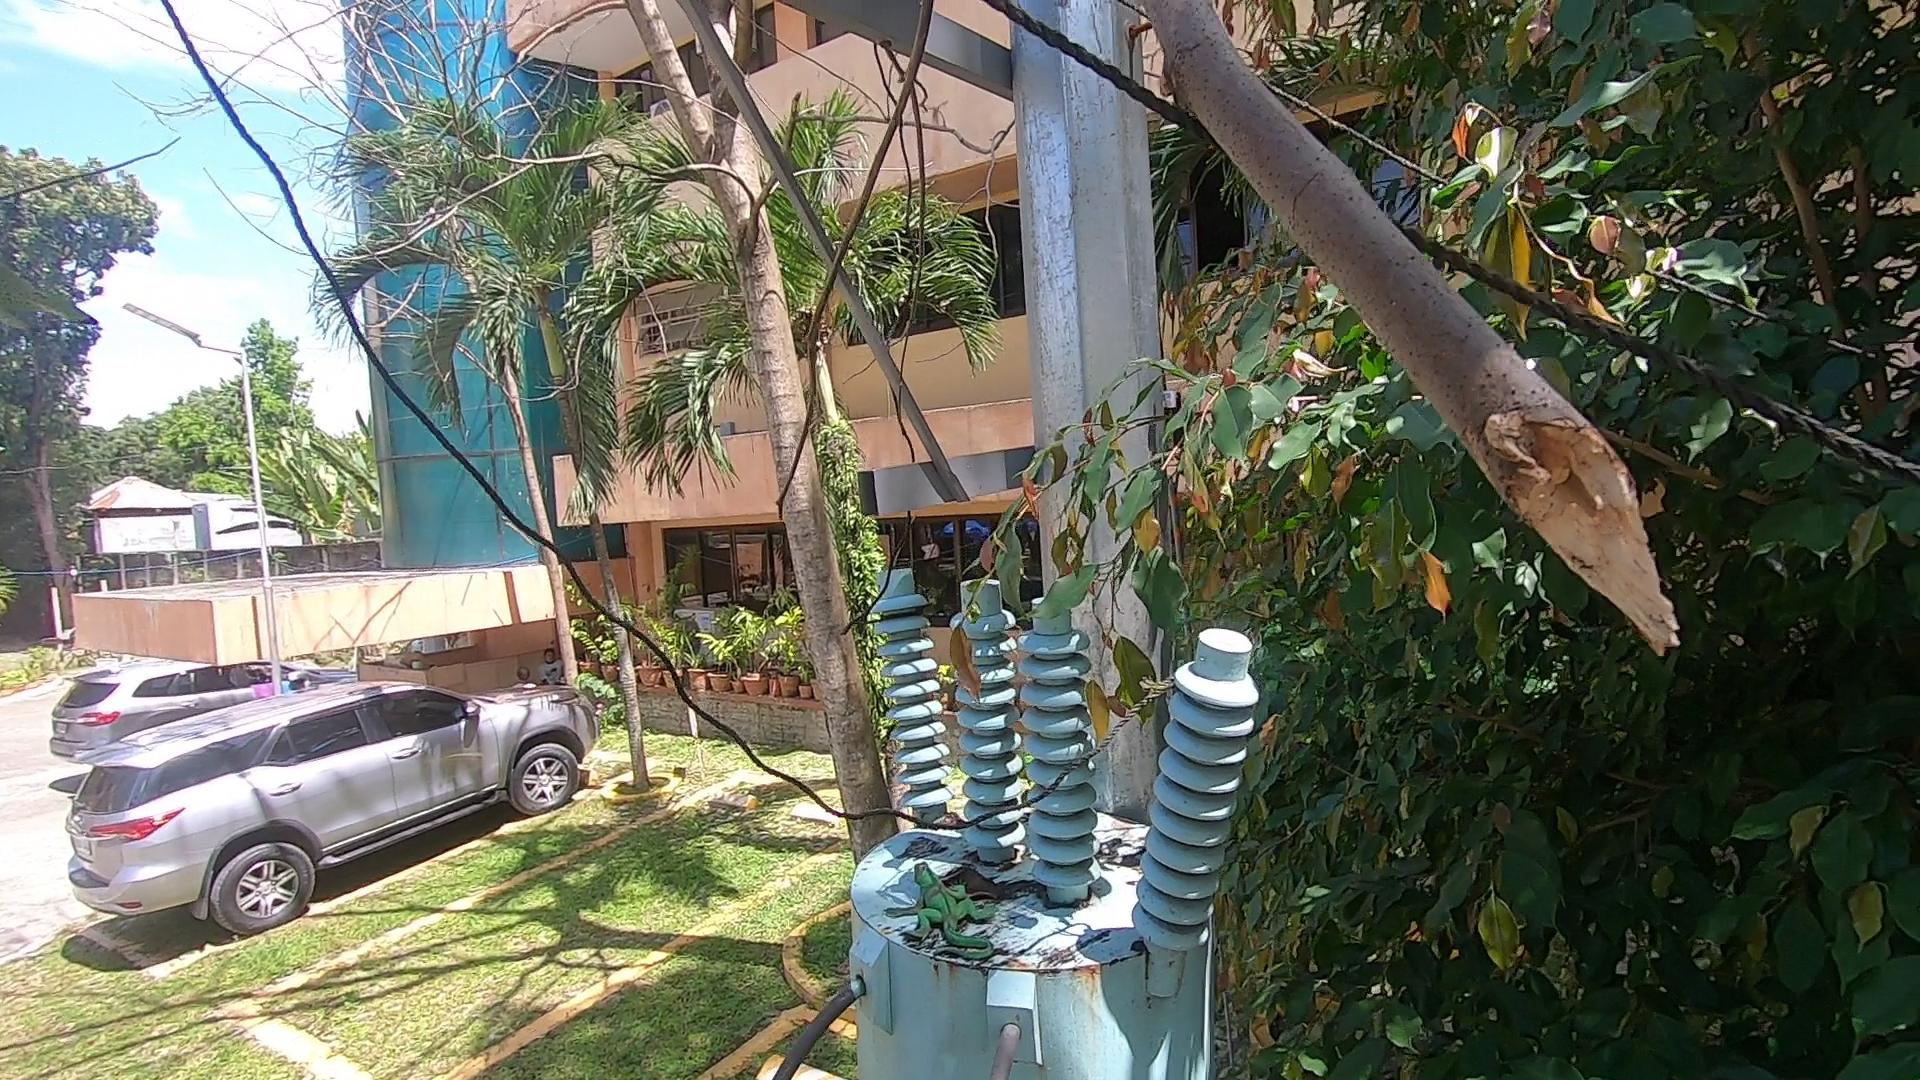branch with leaves: (951, 384, 1185, 732)
leaf: (934, 860, 1058, 913), (1095, 833, 1149, 869), (910, 810, 965, 835)
tree branch: (1127, 1, 1697, 669)
